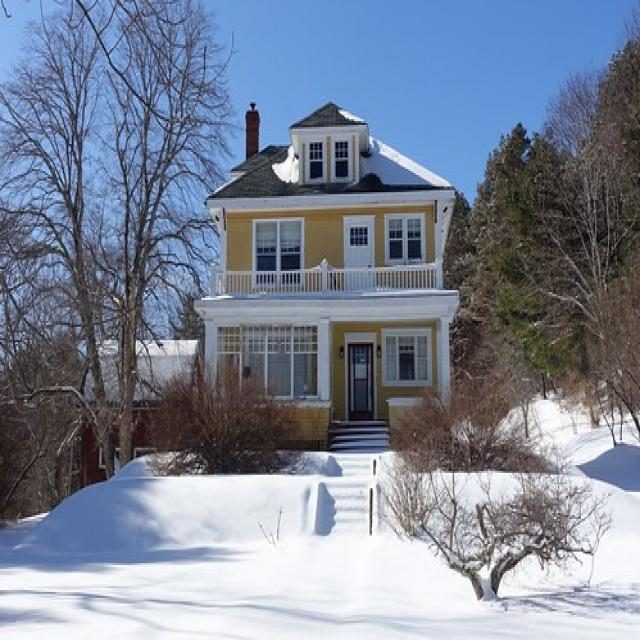Normal_building: (195, 91, 455, 482)
